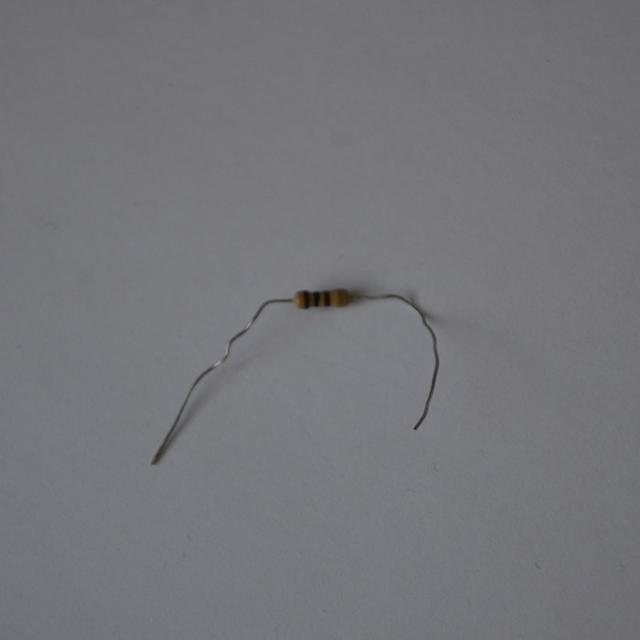black: (314, 293, 319, 305)
brown: (304, 292, 310, 306), (325, 292, 330, 304)
gold: (337, 289, 343, 305)
resistor: (290, 284, 354, 313)
